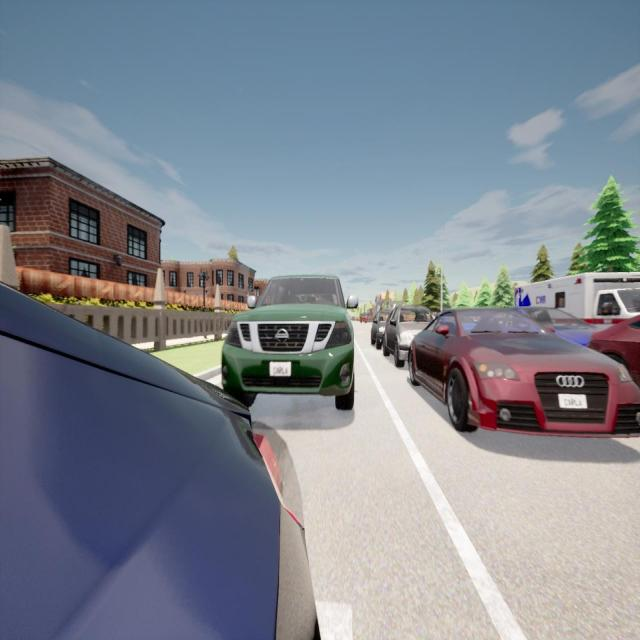Vehicle: (0, 282, 321, 640), (408, 307, 640, 437), (222, 276, 358, 410), (516, 271, 640, 316), (589, 315, 640, 386), (517, 308, 603, 347), (384, 306, 436, 366), (371, 310, 392, 349), (360, 311, 369, 324)
